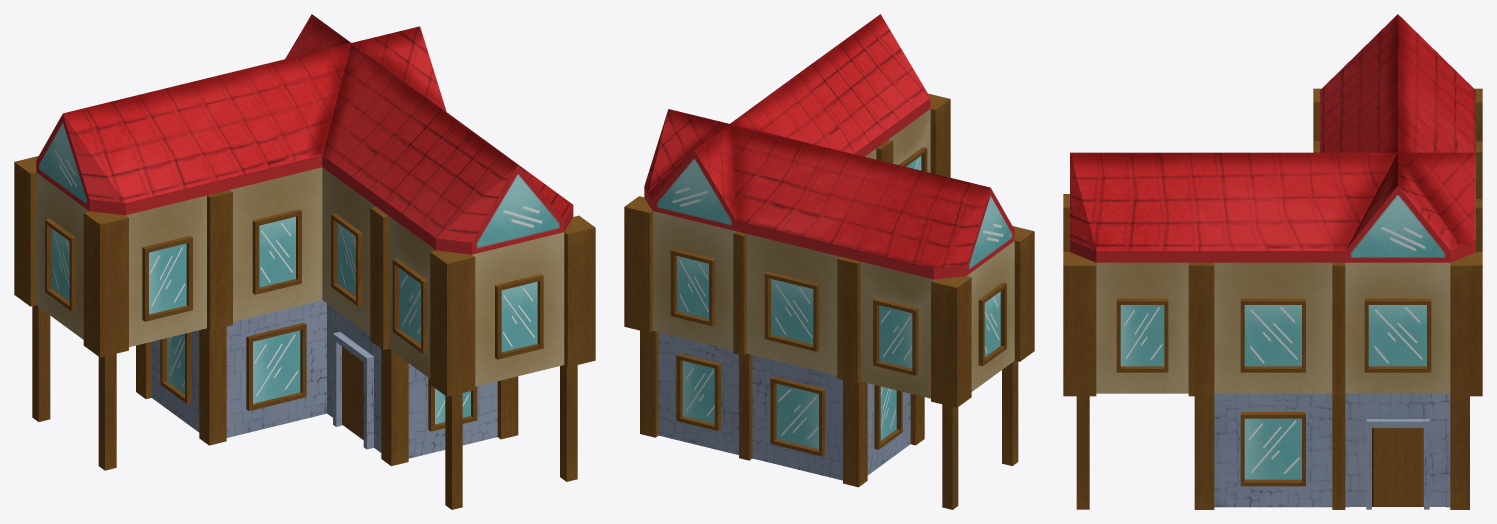
The model's file is Workers' House Lvl 3.fbx.
3 renders of one model, left to right at view 1: azimuth 30°, elevation 25°; view 2: azimuth 150°, elevation 25°; view 3: azimuth 270°, elevation 25°, orthographic. The views are drawn at different scales.
Visible parts, largest first — view 1: Workers' House Lvl 3; view 2: Workers' House Lvl 3; view 3: Workers' House Lvl 3.
Boxes of the visible parts, left/top/right/bottom form: Workers' House Lvl 3: left=14, top=14, right=595, bottom=509; Workers' House Lvl 3: left=624, top=14, right=1034, bottom=509; Workers' House Lvl 3: left=1063, top=14, right=1482, bottom=509.
Size of the model in its own units: 639 by 550 by 639.
